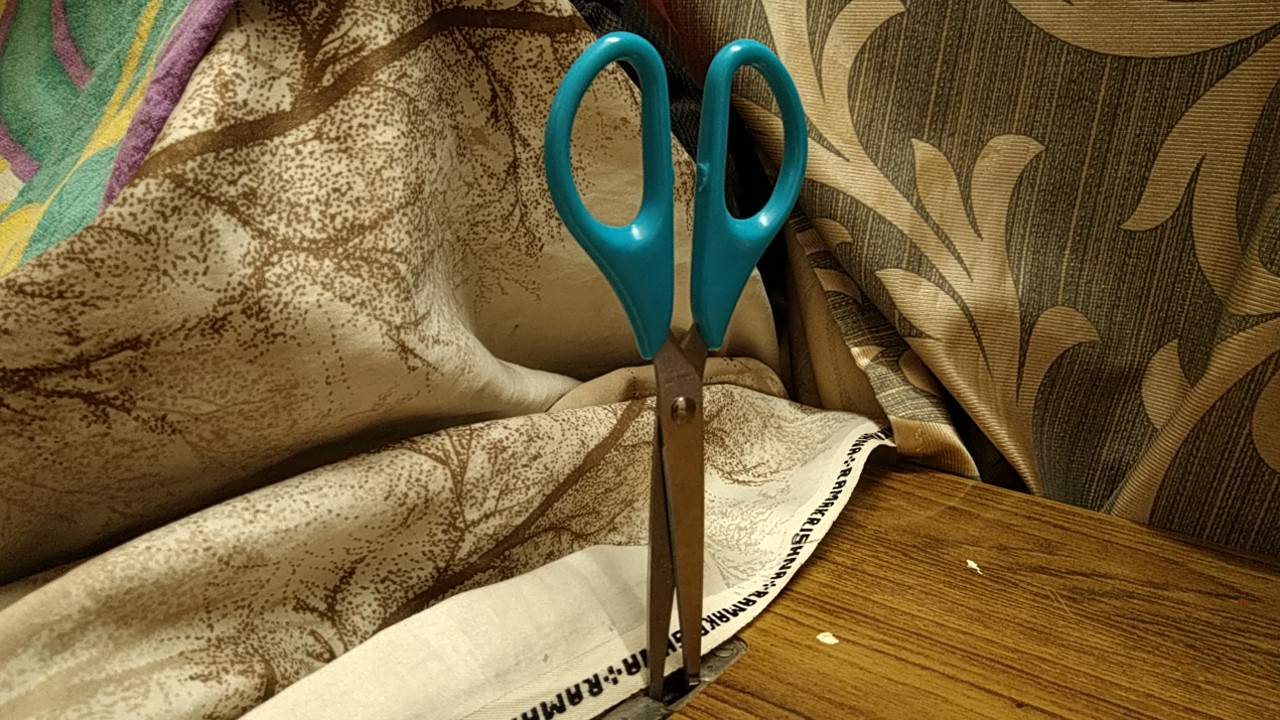scissor: (524, 21, 817, 707)
